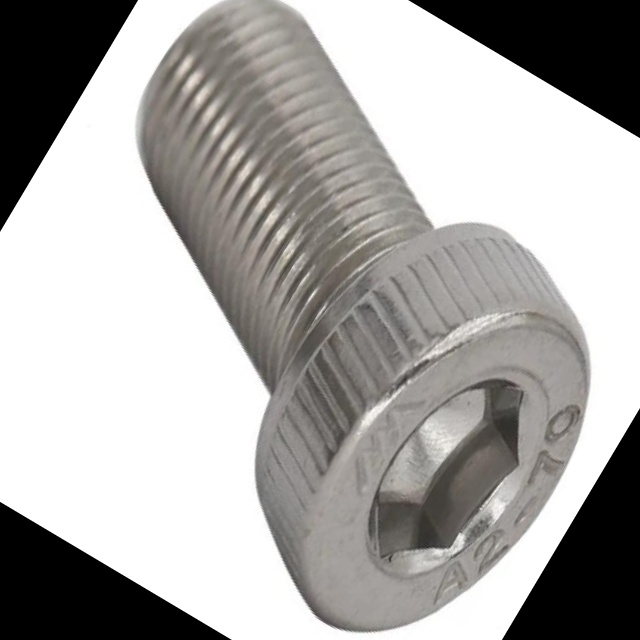allen: (262, 258, 632, 640)
